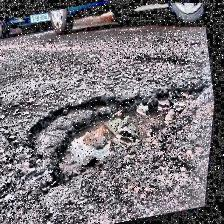pothole: (19, 67, 219, 197)
